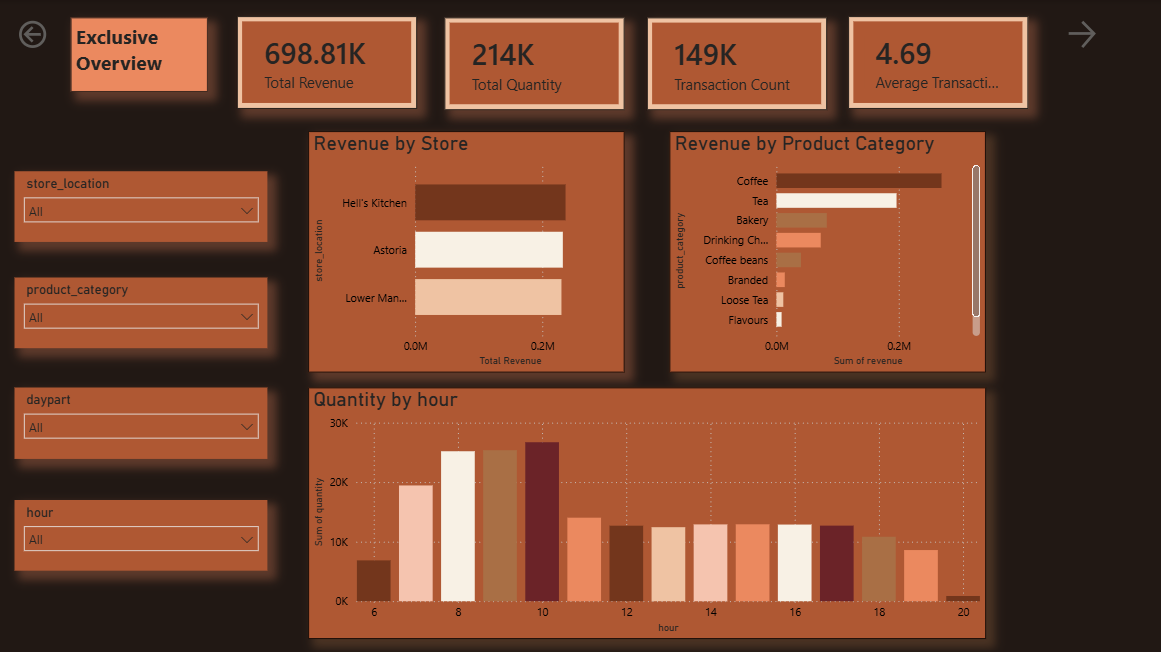

This screenshot's page, from the dashboard's own definition file:
{"tool":"powerbi","page":{"name":"Exclusive Overview","canvas":[1280,720],"ordinal":1},"visuals":[{"type":"cardVisual","fields":{"Data":["transactions_clean.Total Revenue"]},"box":[263.5,17.2,197.6,101.7],"z":0},{"type":"cardVisual","fields":{"Data":["transactions_clean.Total Quantity"]},"box":[491.2,18.6,197.6,101.7],"z":1000},{"type":"clusteredBarChart","title":"Revenue by Store","fields":{"Category":["store_summary.store_location"],"Y":["transactions_clean.Total Revenue"]},"box":[341.7,144.1,347.2,264.8],"z":2000},{"type":"clusteredBarChart","title":"Revenue by Product Category","fields":{"Category":["category_summary.product_category"],"Y":["Sum(category_summary.revenue)"]},"box":[738.3,144.1,347.2,264.8],"z":3000},{"type":"clusteredColumnChart","title":"Quantity by hour","fields":{"Category":["hourly_store_demand.hour"],"Y":["Sum(hourly_store_demand.quantity)"]},"box":[341.7,425.4,743.7,275.8],"z":4000},{"type":"slicer","fields":{"Values":["transactions_clean.store_location"]},"box":[18.6,187.6,277.8,77.3],"z":5000},{"type":"actionButton","box":[19.2,17.8,100.2,39.8],"z":6000},{"type":"actionButton","box":[1170.5,17.8,100.2,39.8],"z":7000},{"type":"cardVisual","fields":{"Data":["transactions_clean.Average Transaction Value"]},"box":[935.2,17.2,197.6,101.7],"z":8000},{"type":"cardVisual","fields":{"Data":["transactions_clean.Transaction Count"]},"box":[713.2,18.6,197.6,101.7],"z":9000},{"type":"slicer","fields":{"Values":["transactions_clean.product_category"]},"box":[18.6,305,277.8,77.3],"z":10000},{"type":"slicer","fields":{"Values":["transactions_clean.daypart"]},"box":[18.6,425.3,277.8,78.8],"z":11000},{"type":"slicer","fields":{"Values":["transactions_clean.hour"]},"box":[18.6,548.5,277.8,77.3],"z":12000},{"type":"textbox","box":[81.6,18.6,150.4,81.6],"z":13000}]}

Visuals, with their boxes in screenshot pixels (x1, y1, x2, y2), scaled from the page's 1280x720 canvas onto the 1161x652 screenshot:
cardVisual - transactions_clean.Total Revenue: region(239, 16, 418, 108)
cardVisual - transactions_clean.Total Quantity: region(446, 17, 625, 109)
"Revenue by Store" clusteredBarChart: region(310, 130, 625, 370)
"Revenue by Product Category" clusteredBarChart: region(670, 130, 985, 370)
"Quantity by hour" clusteredColumnChart: region(310, 385, 984, 635)
slicer - transactions_clean.store_location: region(17, 170, 269, 240)
actionButton: region(17, 16, 108, 52)
actionButton: region(1062, 16, 1153, 52)
cardVisual - transactions_clean.Average Transaction Value: region(848, 16, 1027, 108)
cardVisual - transactions_clean.Transaction Count: region(647, 17, 826, 109)
slicer - transactions_clean.product_category: region(17, 276, 269, 346)
slicer - transactions_clean.daypart: region(17, 385, 269, 456)
slicer - transactions_clean.hour: region(17, 497, 269, 567)
textbox: region(74, 17, 210, 91)
